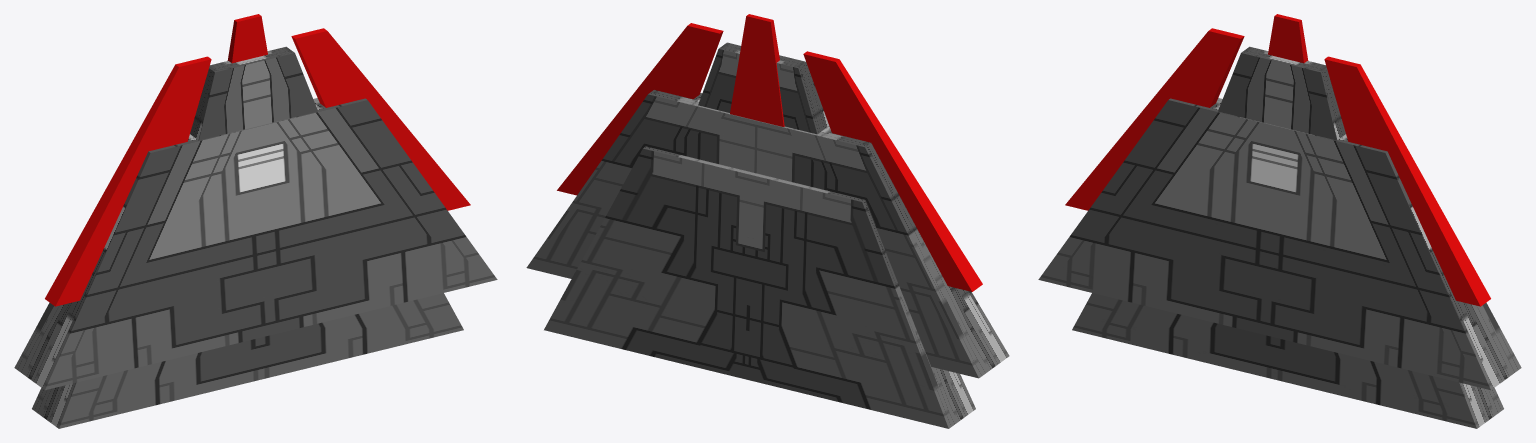
File: wall_pyra.fbx
The picture shows the model from 3 angles, left to right: view 1: azimuth 30°, elevation 25°; view 2: azimuth 150°, elevation 25°; view 3: azimuth 330°, elevation 25°; orthographic projection.
Visible parts, largest first — view 1: wall_pyra; view 2: wall_pyra; view 3: wall_pyra.
Part boxes in pixels (box(x1,y1,x2,y2)): wall_pyra: box(14, 14, 497, 428); wall_pyra: box(526, 14, 1009, 428); wall_pyra: box(1038, 14, 1521, 428).
Size of the model in its own units: 237 by 176 by 33.61.
